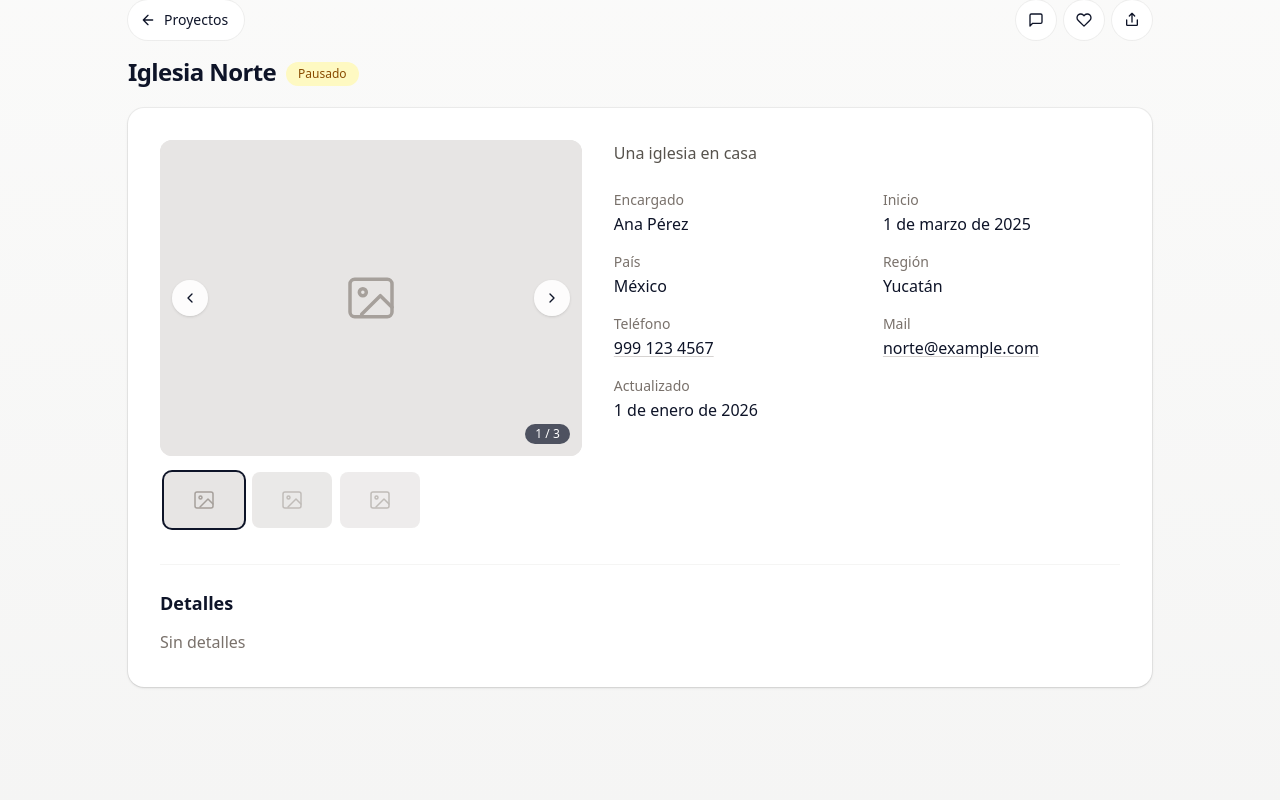
Test case: ProjectDetailPage › send message › keeps the composer open and shows why when sending fails
Expected: the heading "Iglesia Norte" is shown, x1=128 y1=56 x2=276 y2=88
Click the button named "Enviar mensaje": x=1036, y=20 x1=1016 y1=0 x2=1056 y2=40
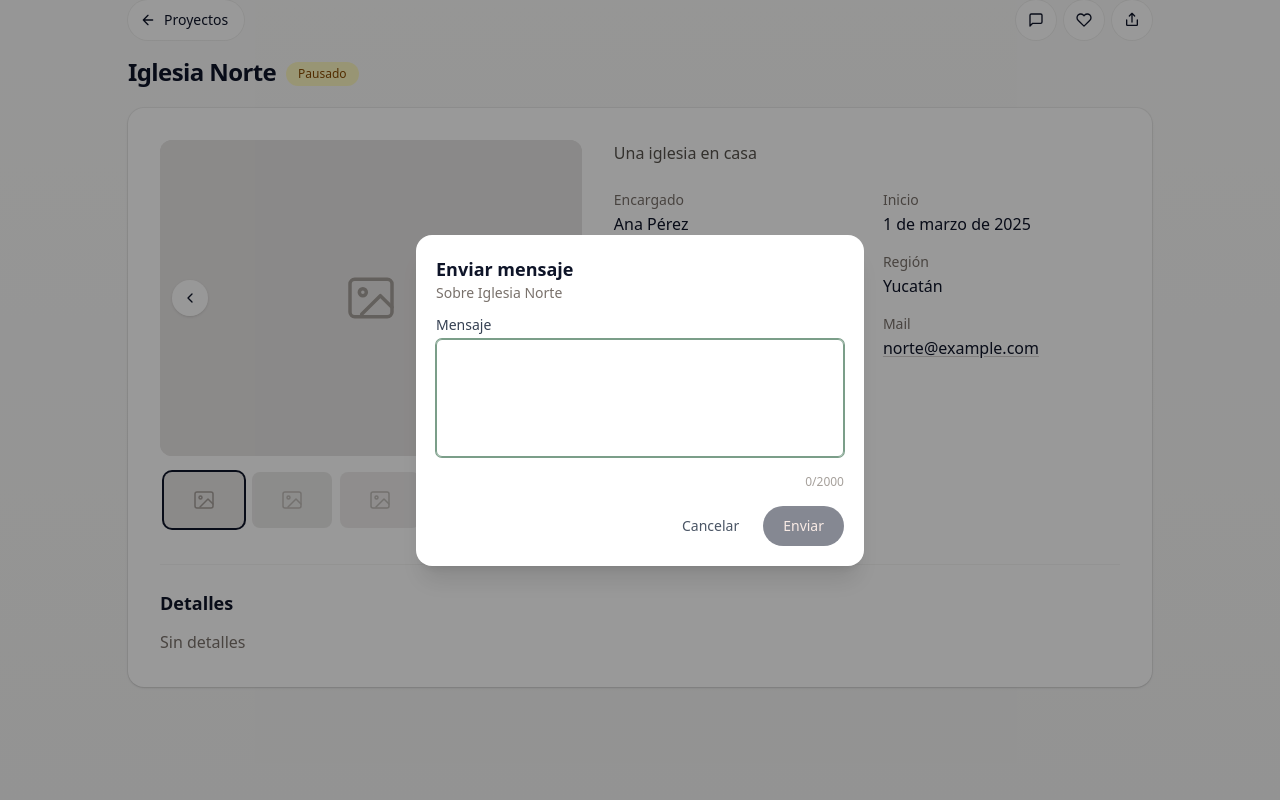
In the text box labelled "Mensaje": x=640, y=398 x1=436 y1=338 x2=844 y2=456, type "Hola"
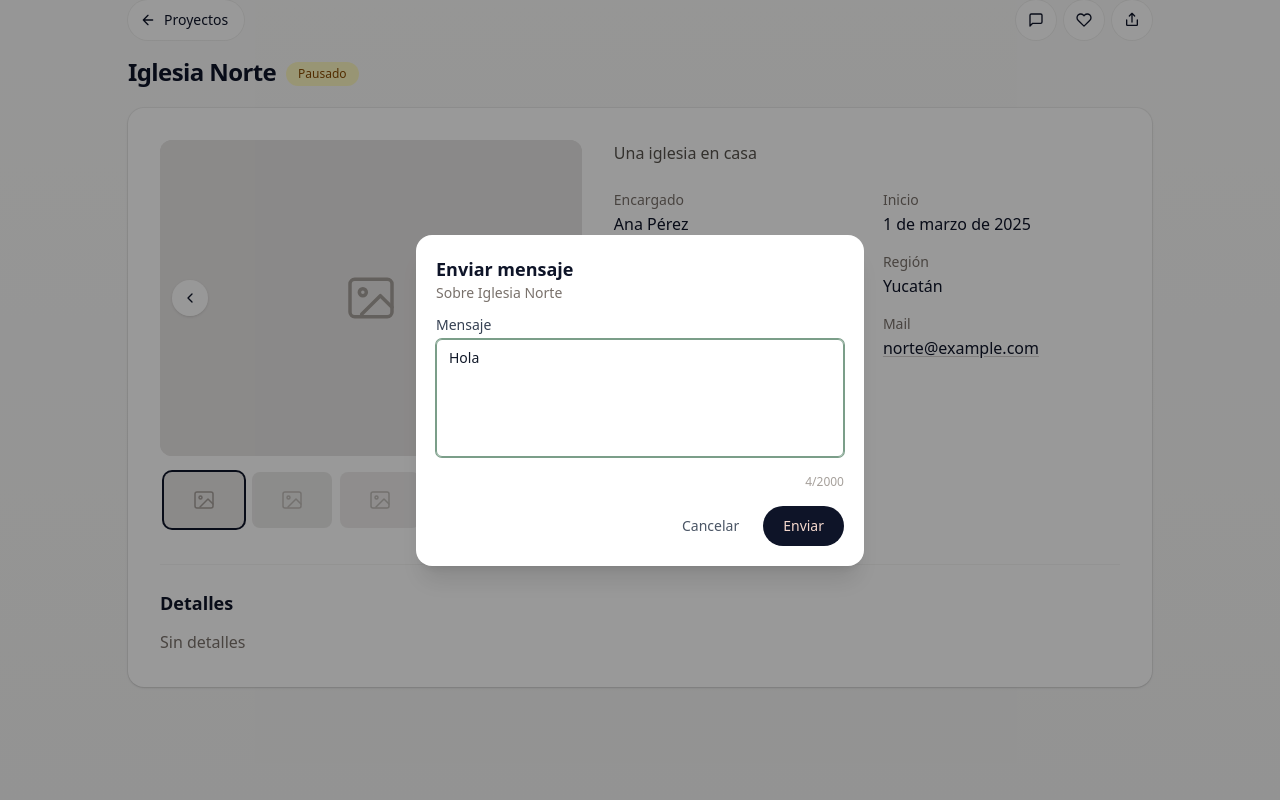
Click the button "Enviar": x=804, y=526 x1=763 y1=506 x2=844 y2=546
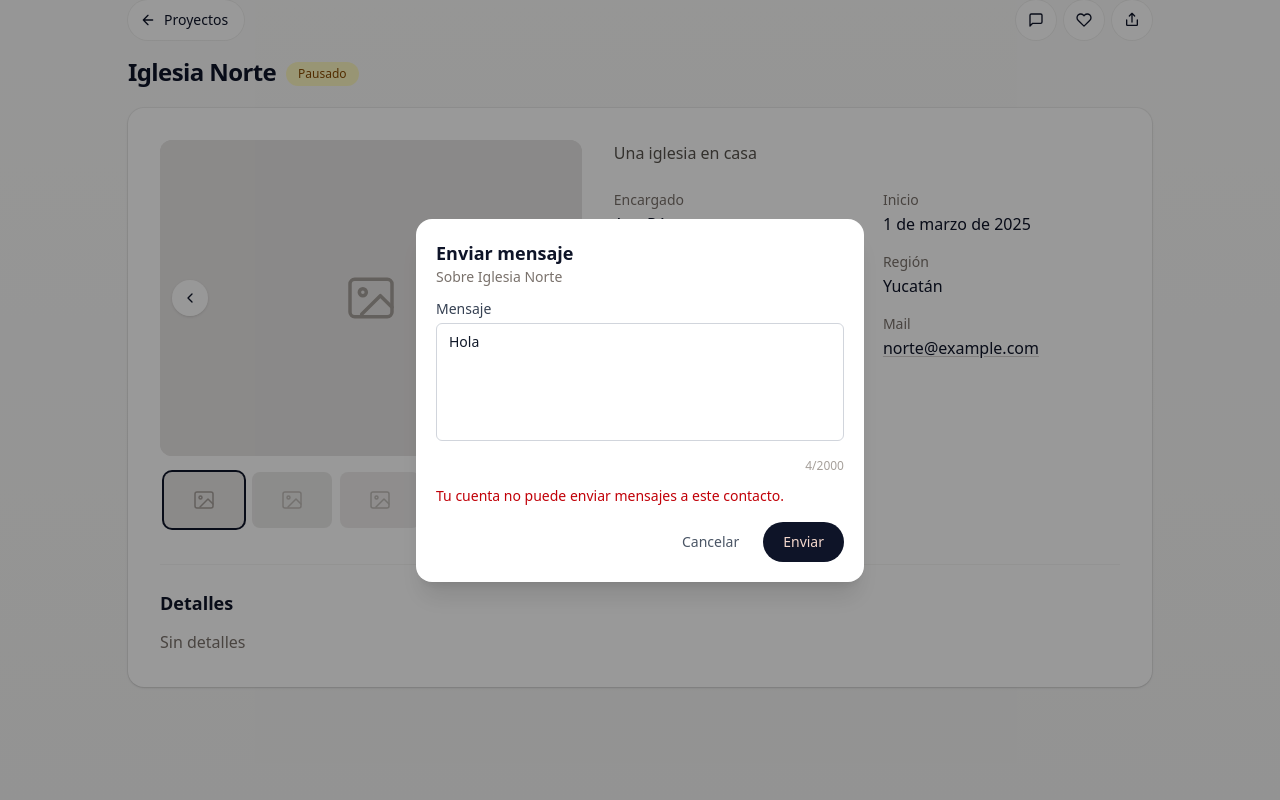
Expected: the dialog is shown, x1=416 y1=218 x2=864 y2=582
Expected: the message shows "Tu cuenta no puede enviar mensajes", x1=436 y1=486 x2=784 y2=504
